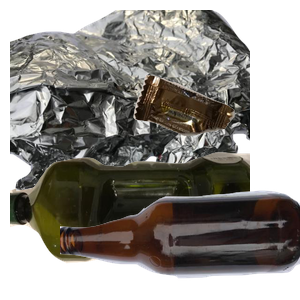glass: (60, 188, 300, 300)
metal: (10, 10, 250, 190)
plastic: (10, 149, 250, 300)
trash: (131, 73, 300, 202)
